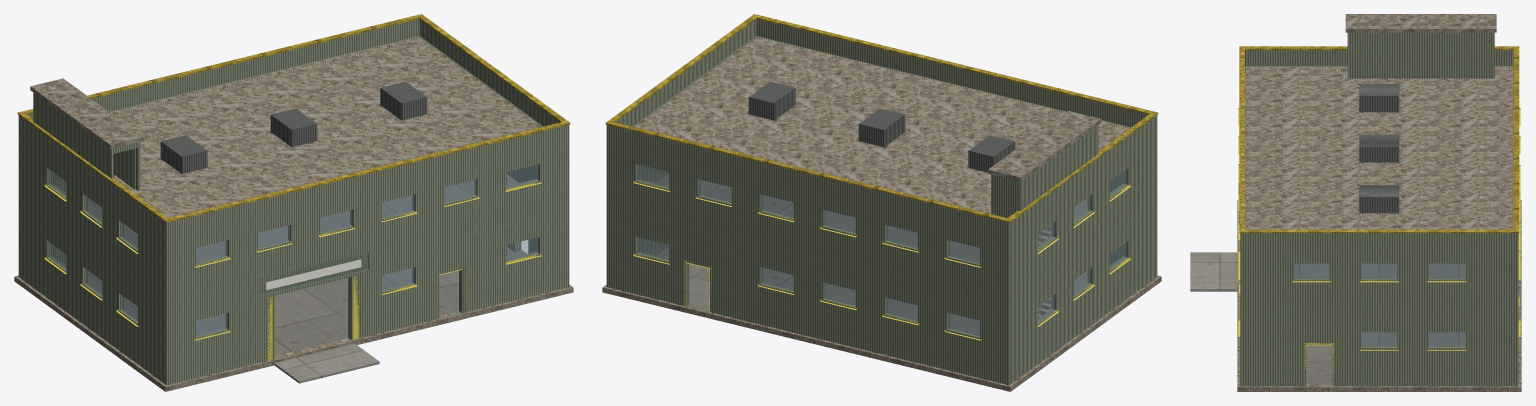
File: mb-armory.garrison-v1.lod0.glb
The picture shows the model from 3 angles, left to right: view 1: azimuth 30°, elevation 25°; view 2: azimuth 150°, elevation 25°; view 3: azimuth 270°, elevation 25°; orthographic projection. The views are drawn at different scales.
Parts seen in each view (by area): view 1: mb-armory; view 2: mb-armory; view 3: mb-armory.
Part boxes in pixels (x1,y1,x2,y2): mb-armory: (14,14,573,391); mb-armory: (602,14,1161,391); mb-armory: (1190,14,1521,391).
Bounding box in the file's own units: 22.3 × 10.65 × 16.65.
5 materials, 3 textured.
